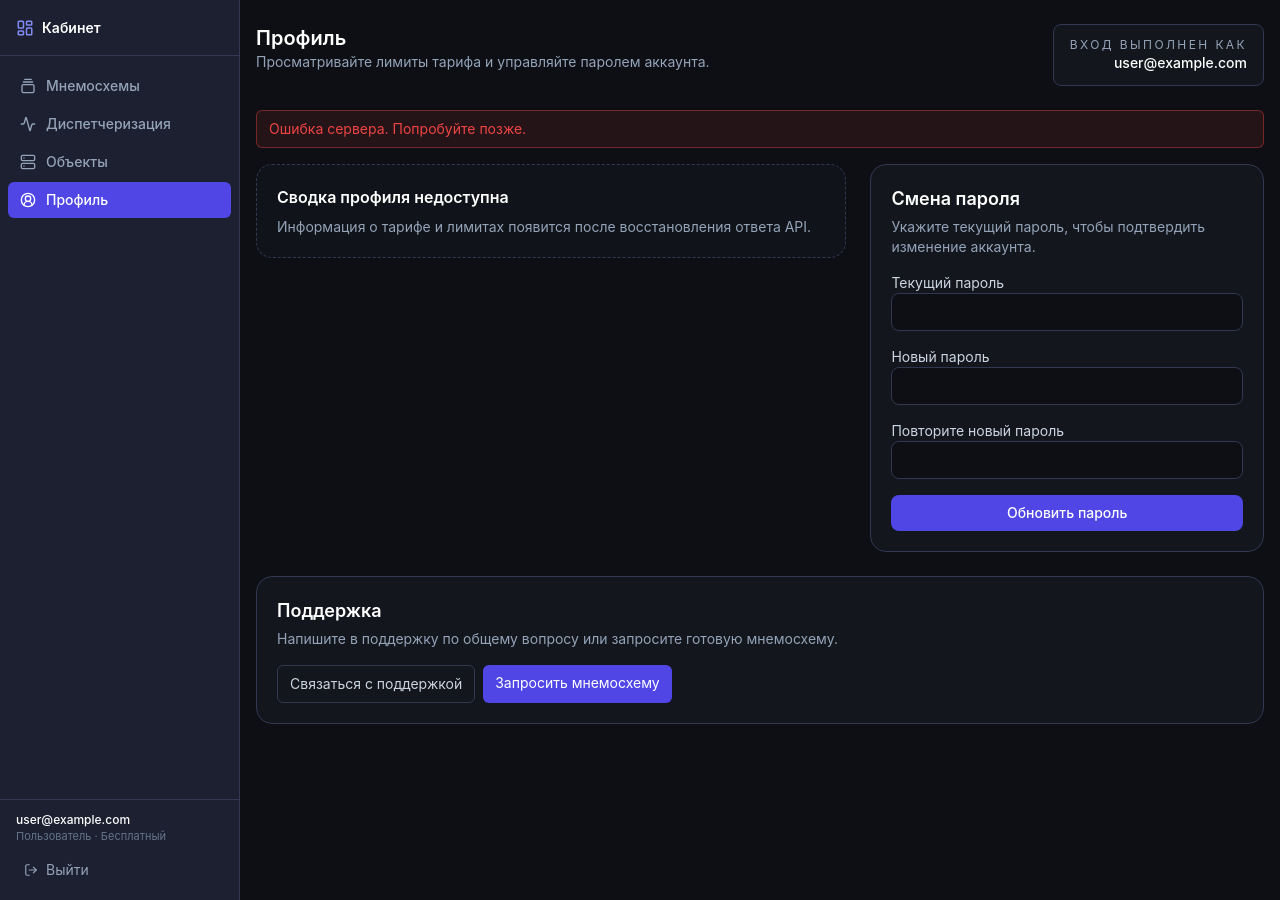
Scenario: ProfilePage route wiring and summary (T038-T040) › keeps the password form available even when profile summary loading fails
Expected: the heading "Профиль" is shown, [256, 26, 346, 50]
Expected: the text "Ошибка сервера. Попробуйте позже." is shown, [256, 110, 1264, 148]
Type "old-password-1" into the password field labelled "Текущий пароль".
click(1067, 312); type("old-password-1")  # box [891, 293, 1243, 331]
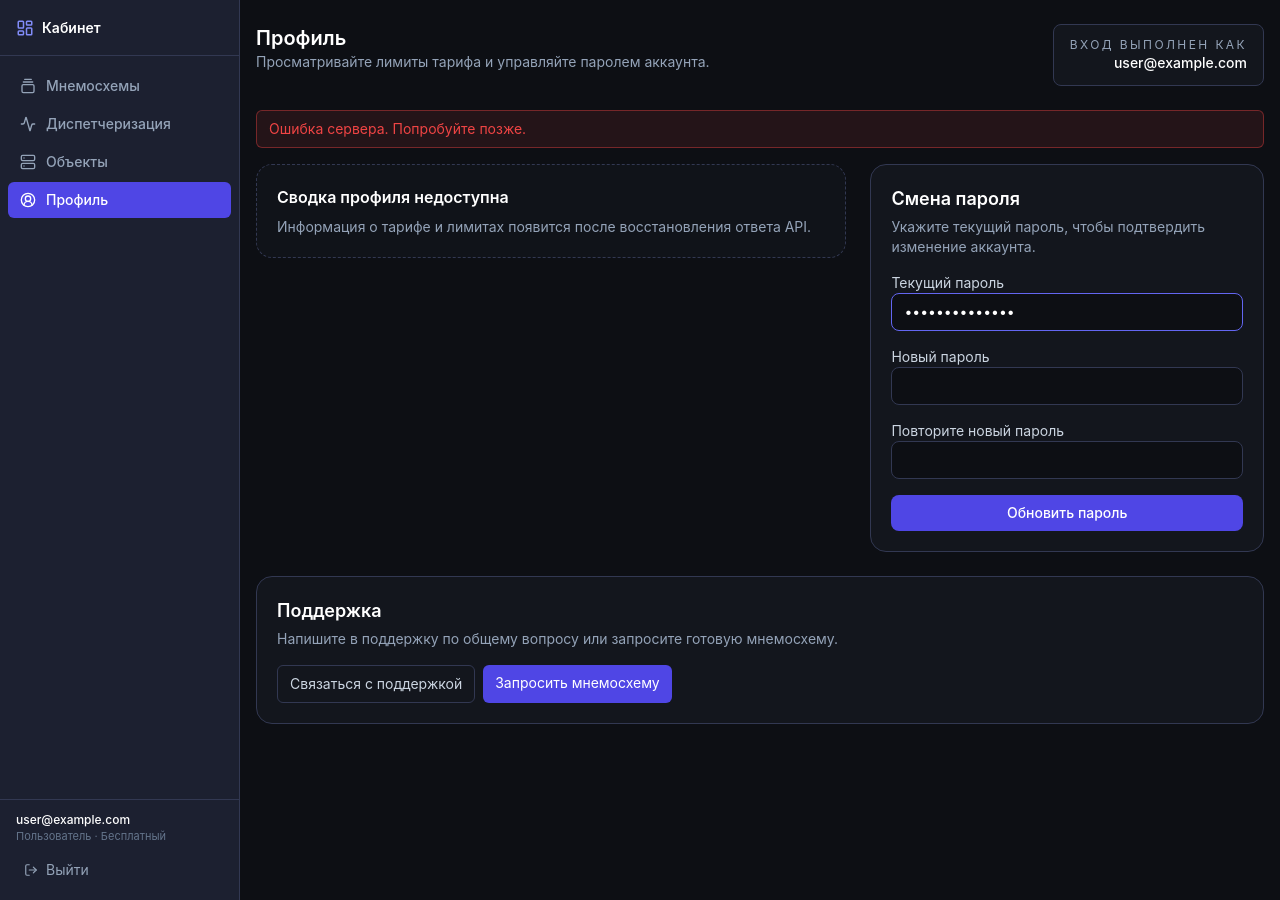
Type "new-password-2" into the password field labelled "Новый пароль".
click(1067, 386); type("new-password-2")  # box [891, 367, 1243, 405]
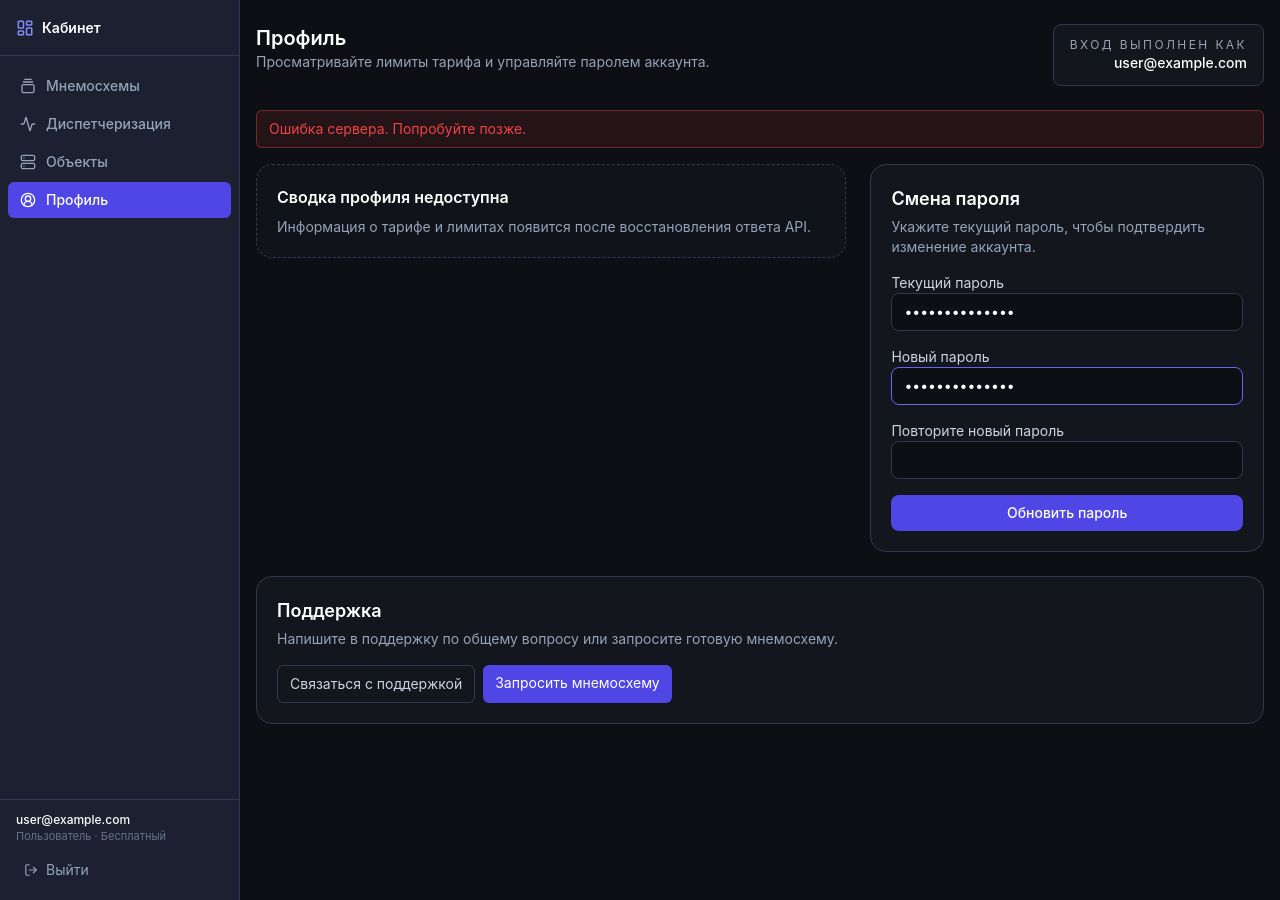
Type "new-password-2" into the password field labelled "Повторите новый пароль".
click(1067, 460); type("new-password-2")  # box [891, 441, 1243, 479]
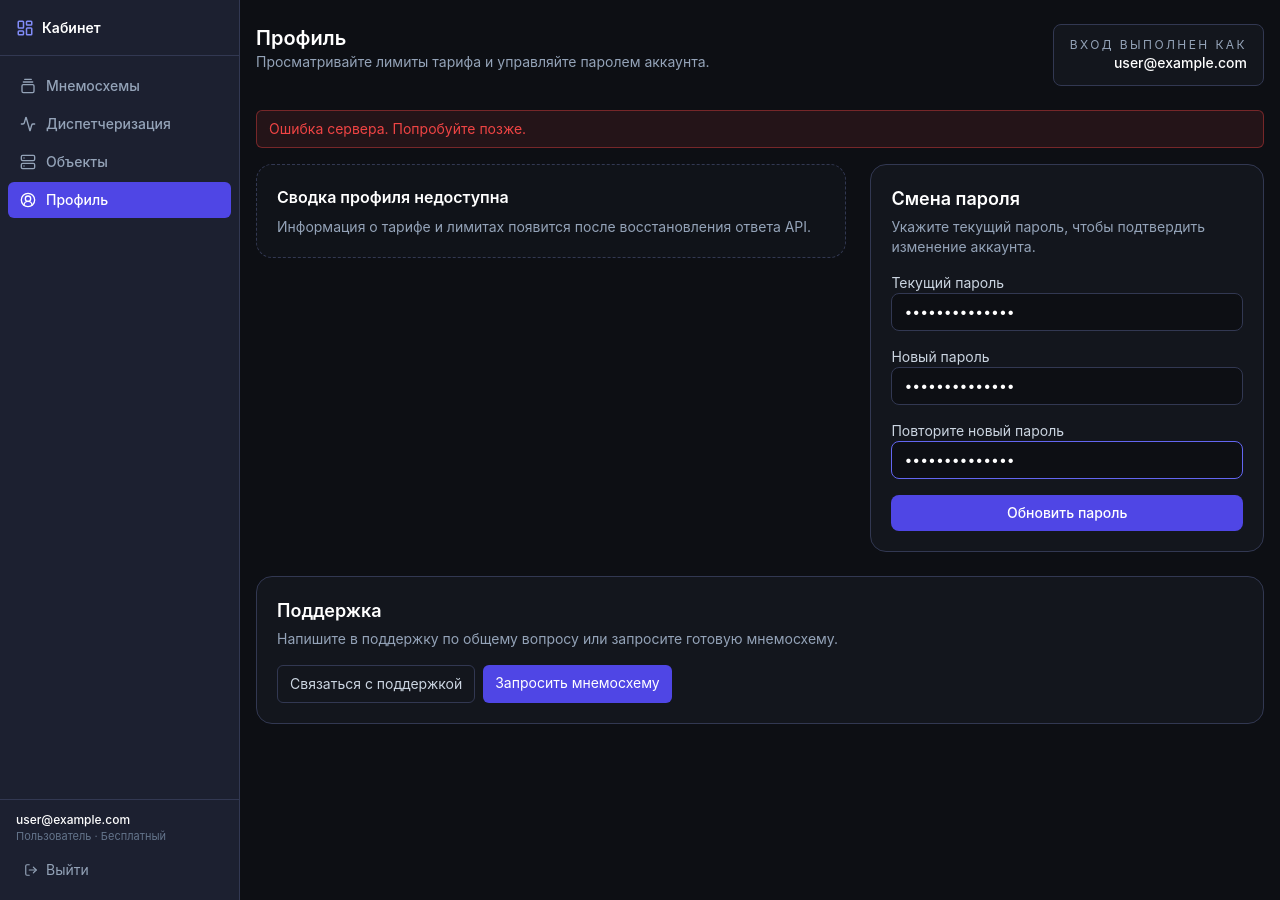
Click the button "Обновить пароль".
click(1067, 513)  # box [891, 495, 1243, 531]
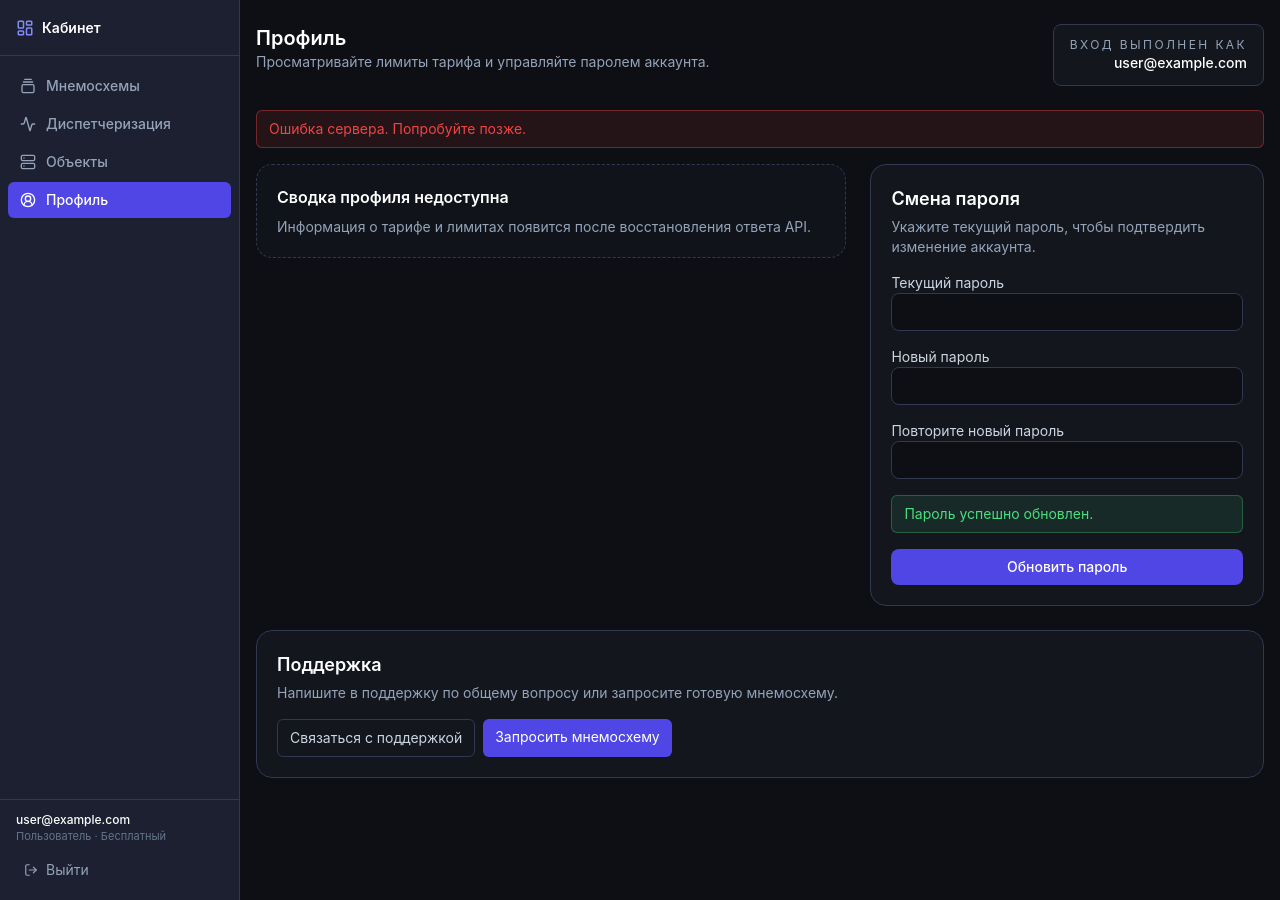
Result: the text "Пароль успешно обновлен." is shown at [891, 495, 1243, 533]
